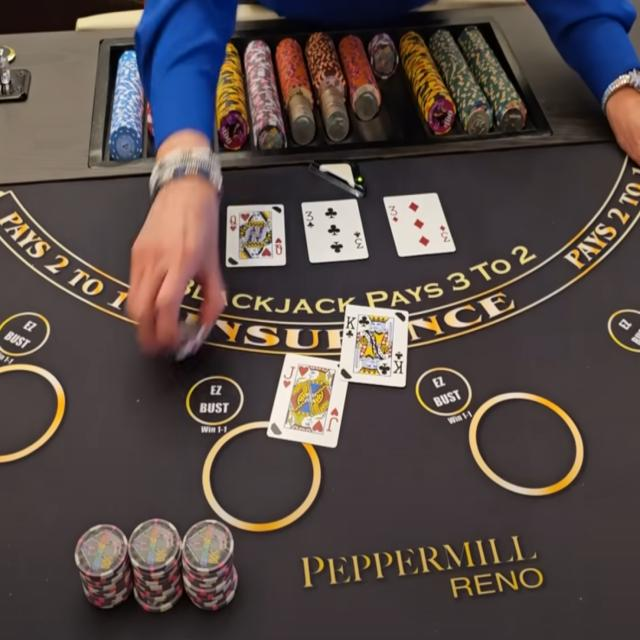3: (304, 209, 316, 222), (388, 204, 398, 216)
J: (284, 365, 296, 380)
K: (345, 314, 357, 330)
Q: (229, 214, 238, 226)
